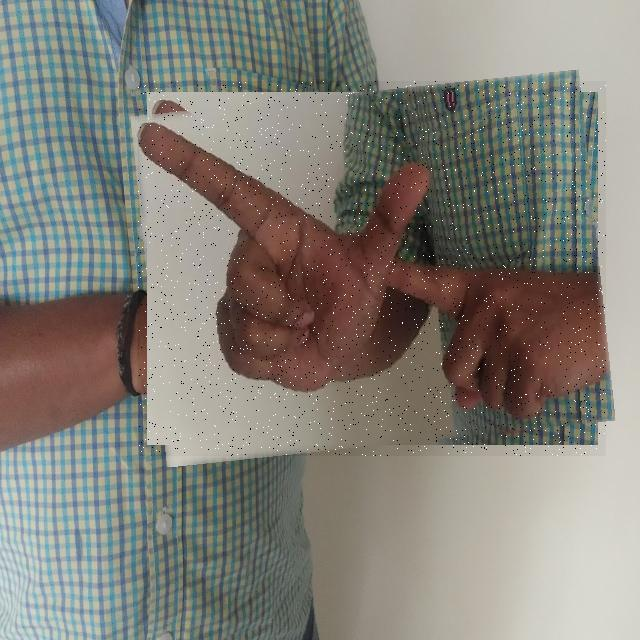Y: (138, 81, 606, 456)
